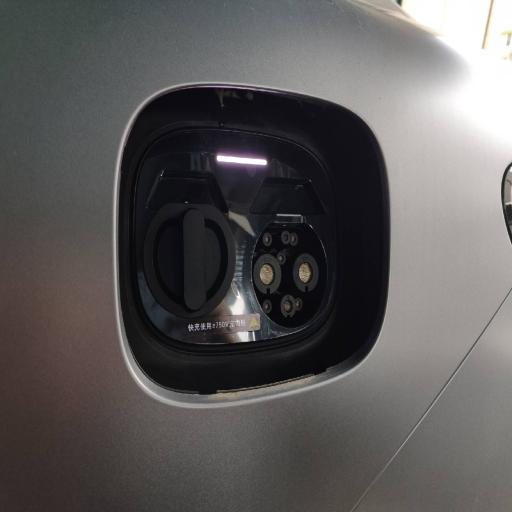DC_hole: (252, 253, 282, 297), (292, 252, 320, 295)
PE: (280, 296, 297, 320)
charging_port: (249, 219, 330, 332)
